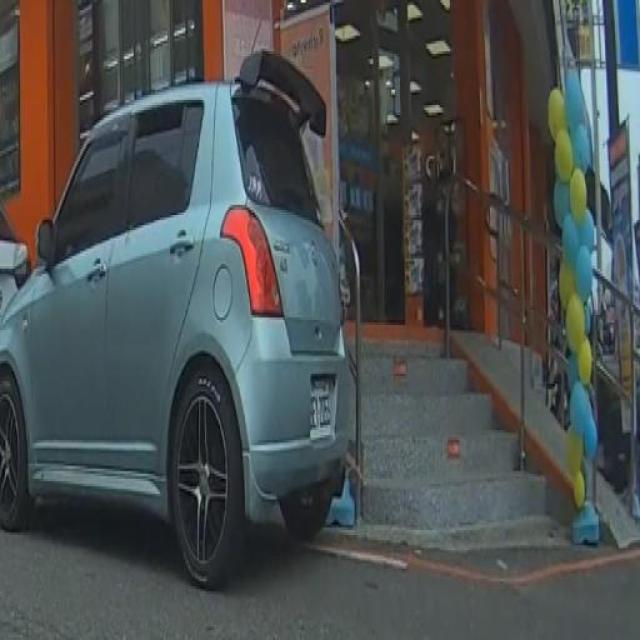Legalparking: (0, 38, 425, 602)
